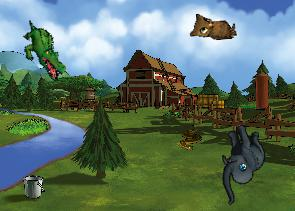crocodile: (9, 18, 78, 83)
elephant: (201, 119, 279, 205)
owl: (188, 10, 237, 41)
